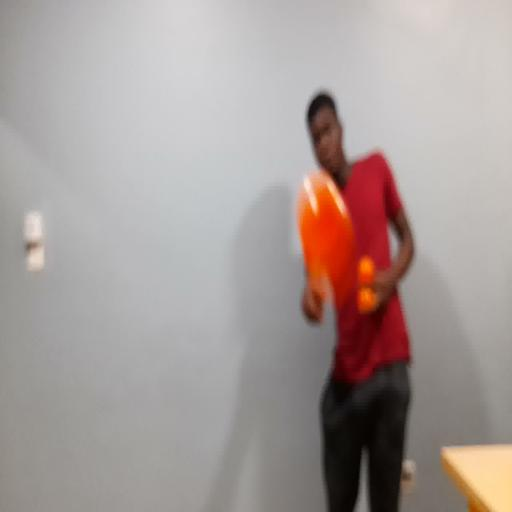plastic-ball: (298, 171, 356, 304)
